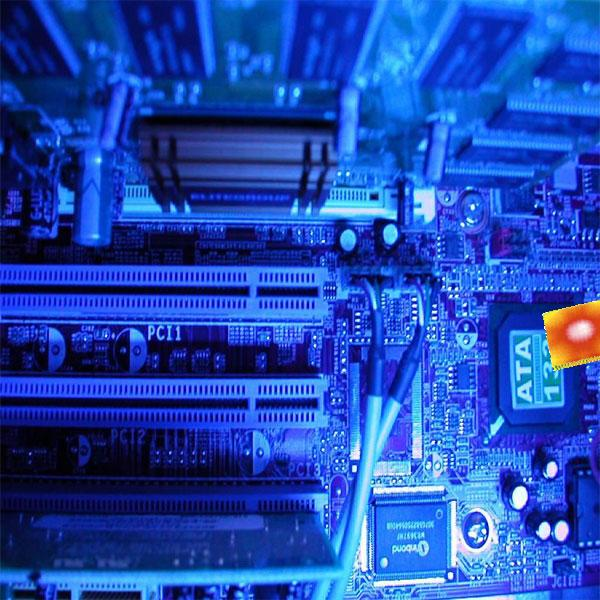componente_T: (539, 299, 600, 373)
